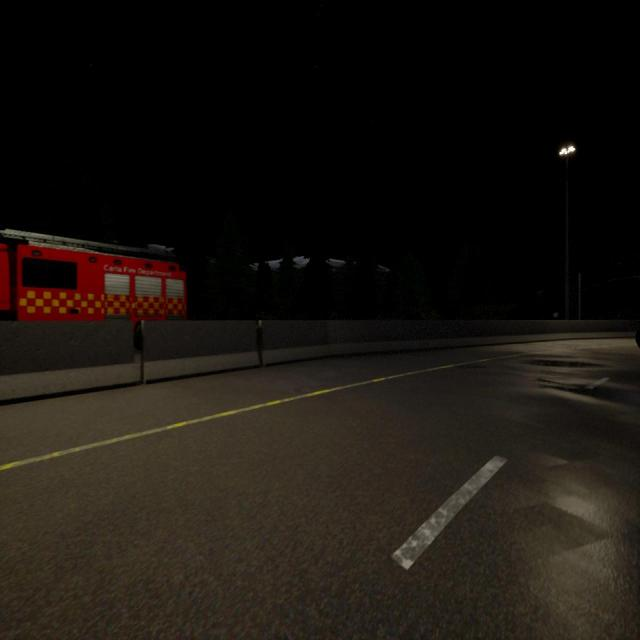Vehicle: (0, 230, 187, 324)
